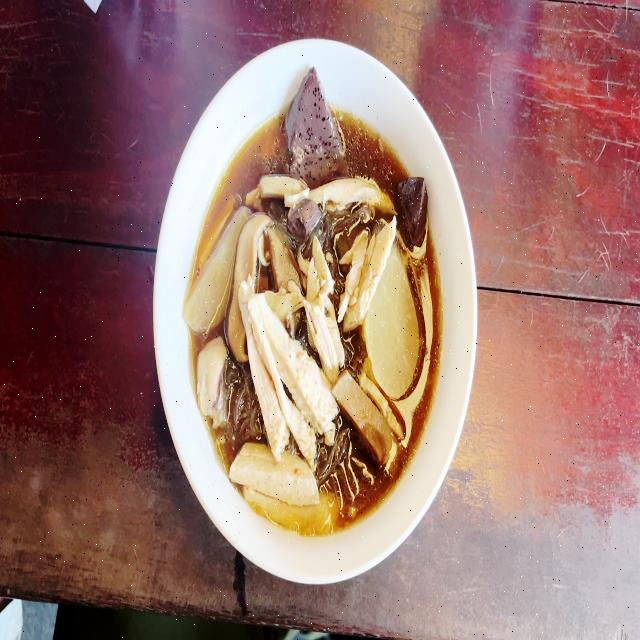boiled_chicken_blood_jelly: (290, 75, 347, 186), (402, 175, 428, 240), (285, 199, 320, 240)
chicken_shredded: (226, 284, 339, 546), (231, 445, 334, 532), (256, 167, 385, 207), (303, 248, 342, 376), (340, 221, 388, 322), (192, 336, 231, 424)
daikon_radish: (364, 272, 416, 392), (187, 205, 233, 340)
noodle: (189, 88, 441, 538)
